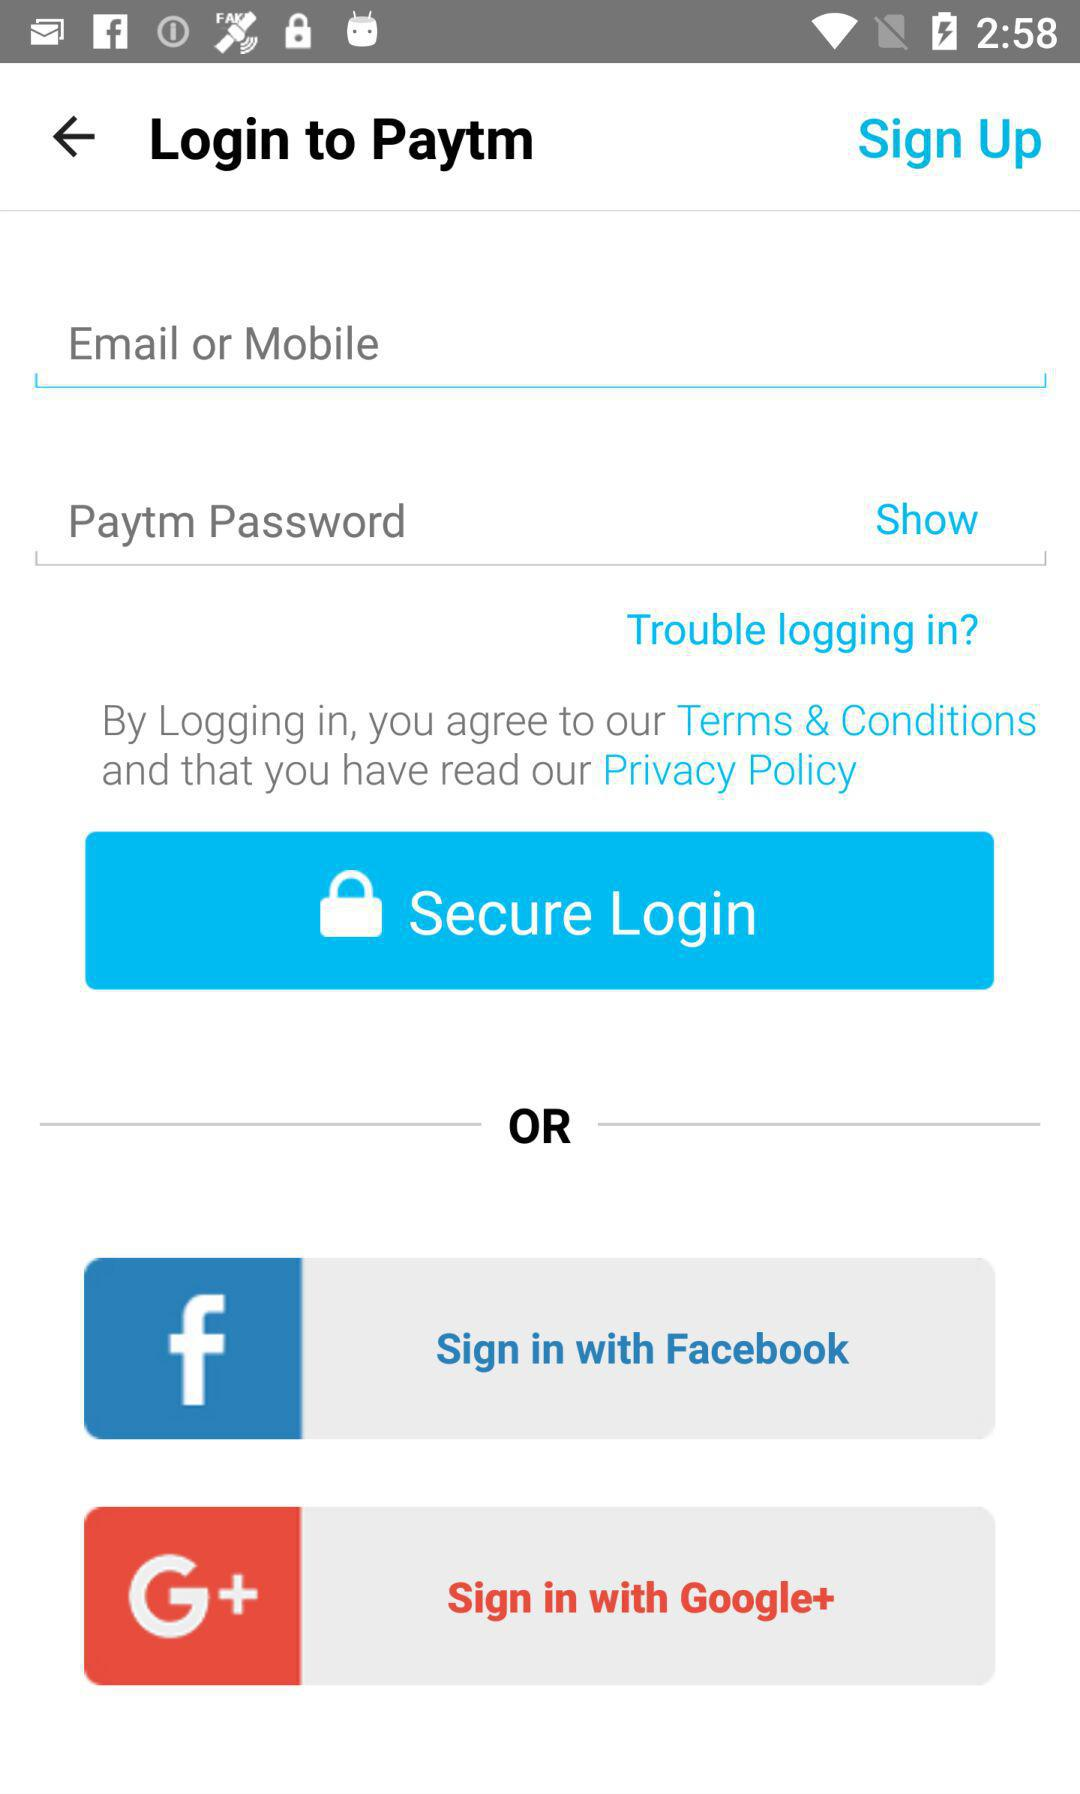EditText: (35, 502, 1048, 568), (35, 325, 1048, 390)
Icon: (53, 115, 97, 159)
Text: (102, 702, 1036, 794), (152, 117, 534, 173), (72, 504, 405, 548), (626, 613, 979, 655), (72, 325, 380, 361), (858, 117, 1042, 170), (874, 502, 979, 537), (509, 1107, 573, 1146)
TextButton: (85, 1257, 997, 1442), (85, 1506, 997, 1686), (85, 830, 995, 992)
Toolbar: (1, 64, 1080, 211)
UpperTaskBar: (1, 1, 1080, 64)
